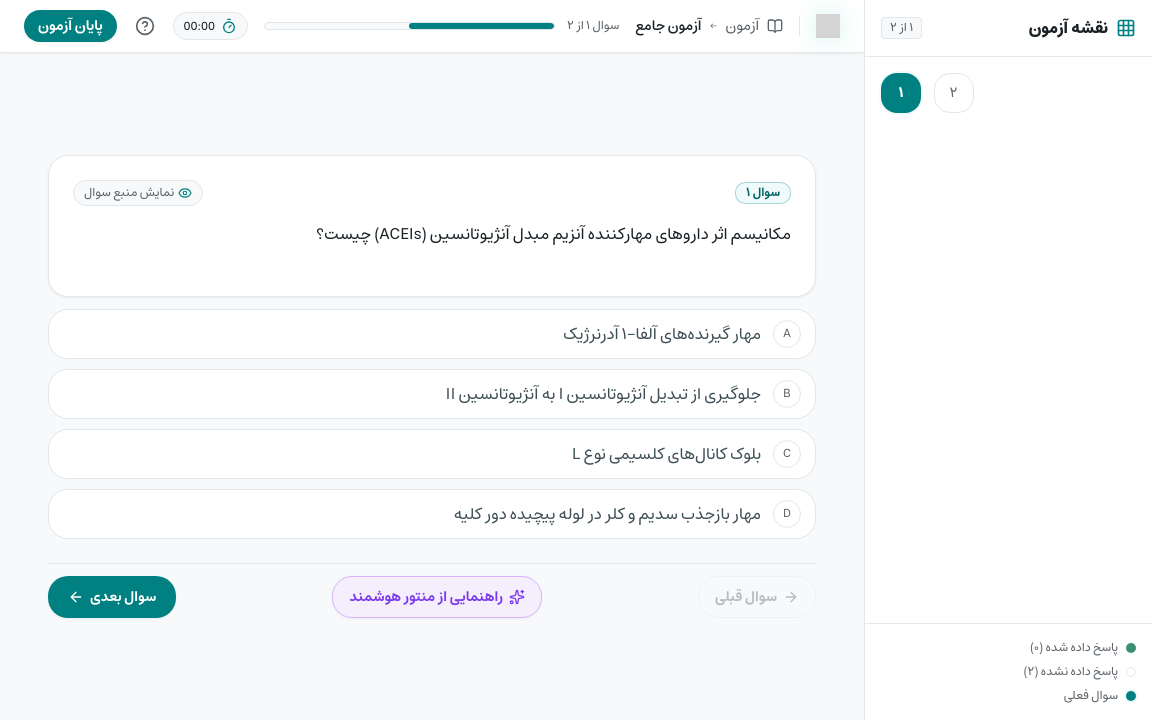
Test: ExamTakingView Component › allows selecting choices and navigating between questions
The image size is (1152, 720).
Select choice B for Question 1
Click the text "جلوگیری از تبدیل آنژیوتانسین I به آنژیوتانسین II" at coordinates (450, 394), box [445,380,761,408]
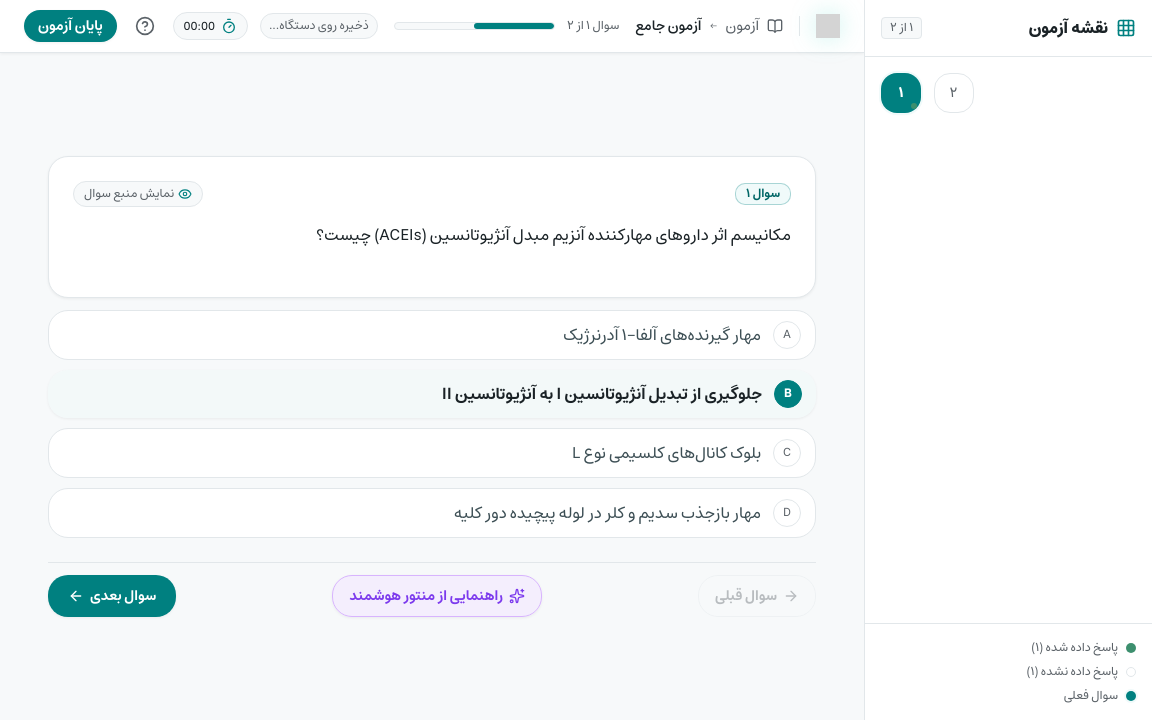
Click "سوال بعدی"
Click the button "سوال بعدی" at coordinates (112, 596), box [48,575,176,617]
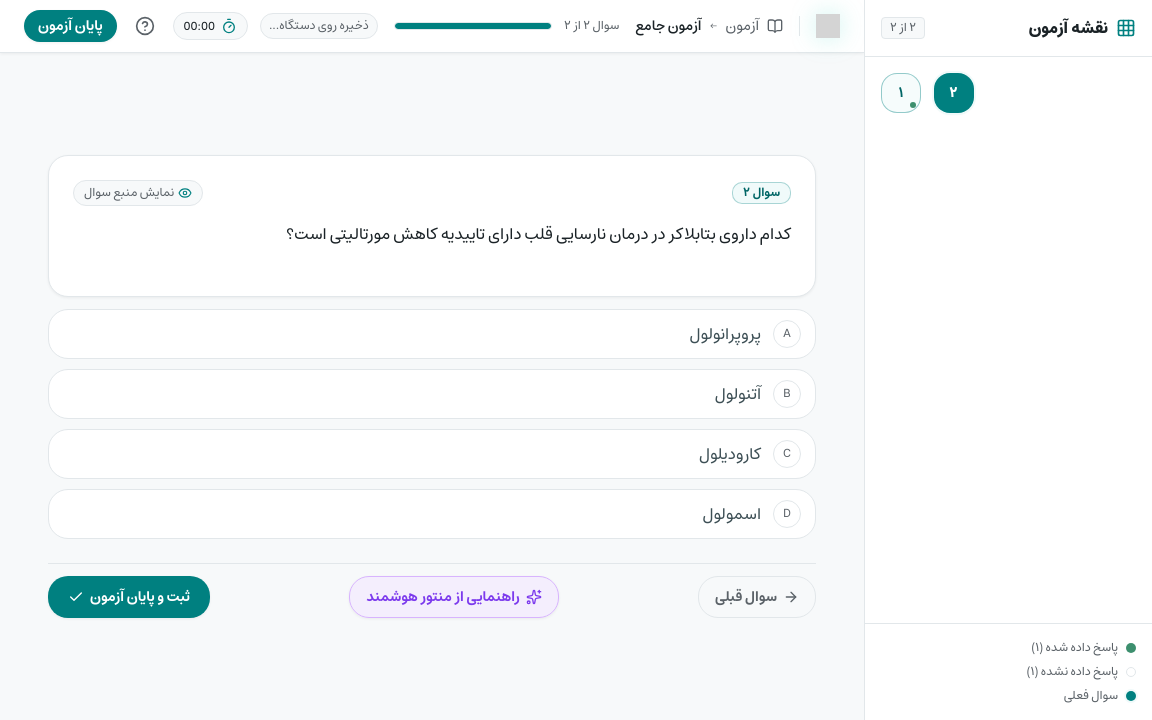
Expected: the text "کدام داروی بتابلاکر در درمان نارسایی قلب دارای تاییدیه کاهش مورتالیتی است؟" is shown, [286,220,791,248]
Click "سوال قبلی"
Click the button "سوال قبلی" at coordinates (757, 597), box [698,576,816,618]
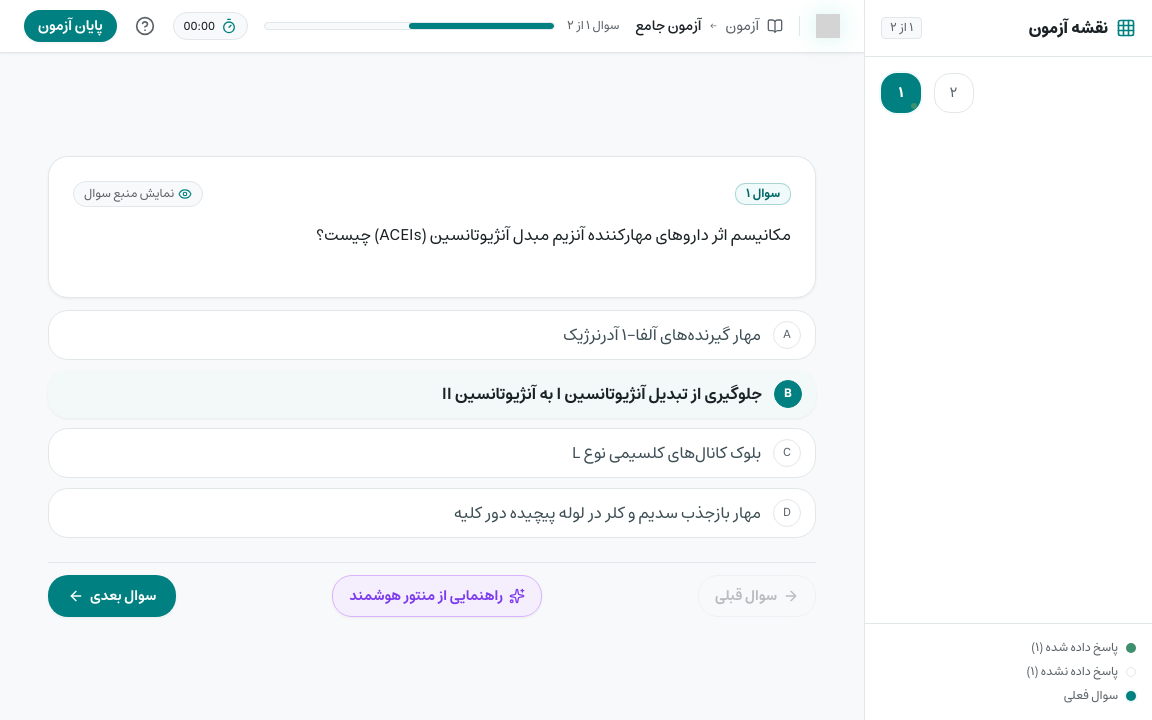
Expected: the text "مکانیسم اثر داروهای مهارکننده آنزیم مبدل آنژیوتانسین (ACEIs) چیست؟" is shown, [316,221,791,249]
